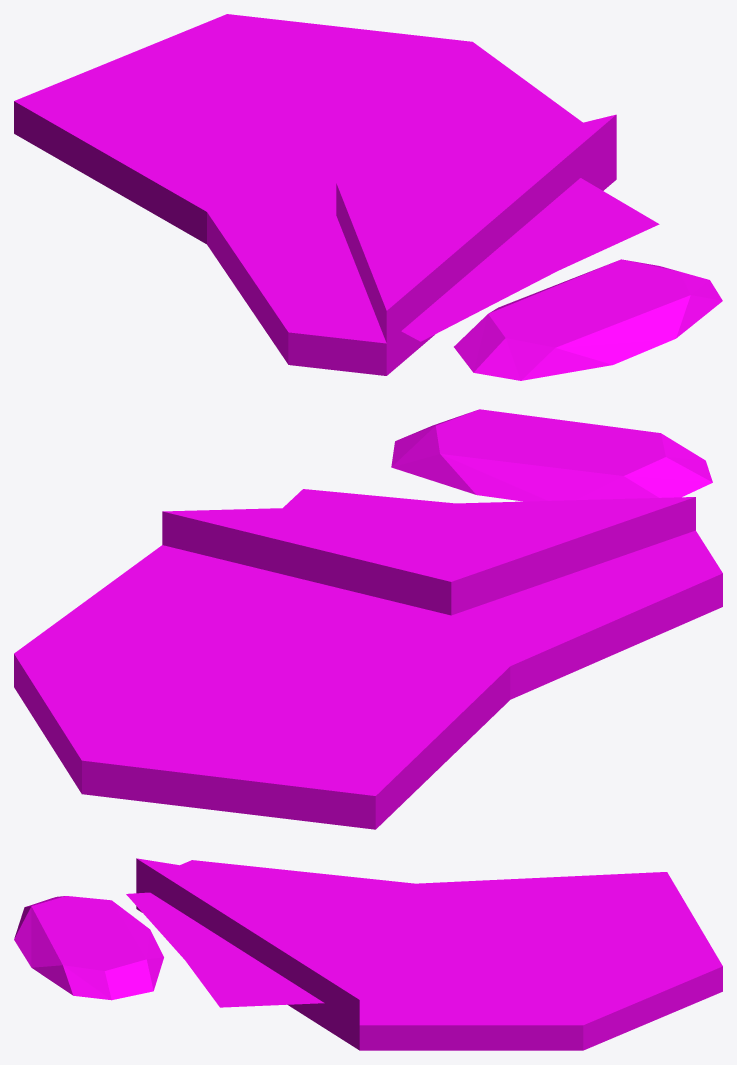
The model's file is poorbed.obj.
3 renders of one model, top to bottom at view 1: azimuth 30°, elevation 25°; view 2: azimuth 150°, elevation 25°; view 3: azimuth 270°, elevation 25°, orthographic. The views are drawn at different scales.
Parts seen in each view (by area): view 1: poorbed_back; view 2: poorbed_back; view 3: poorbed_back.
Part boxes in pixels (box(x1,y1,x2,y2)): poorbed_back: box(14, 14, 722, 380); poorbed_back: box(14, 409, 722, 829); poorbed_back: box(14, 858, 722, 1050).
Size of the model in its own units: 1.12 by 0.16 by 2.03.
